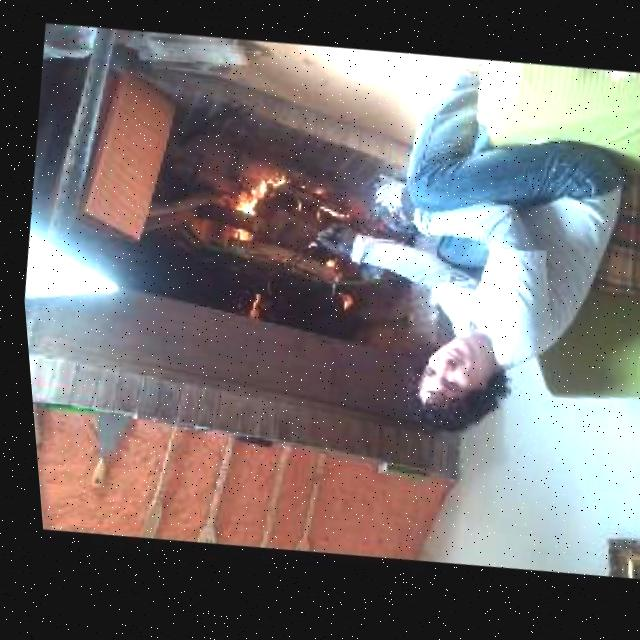Fire: (203, 173, 288, 253)
